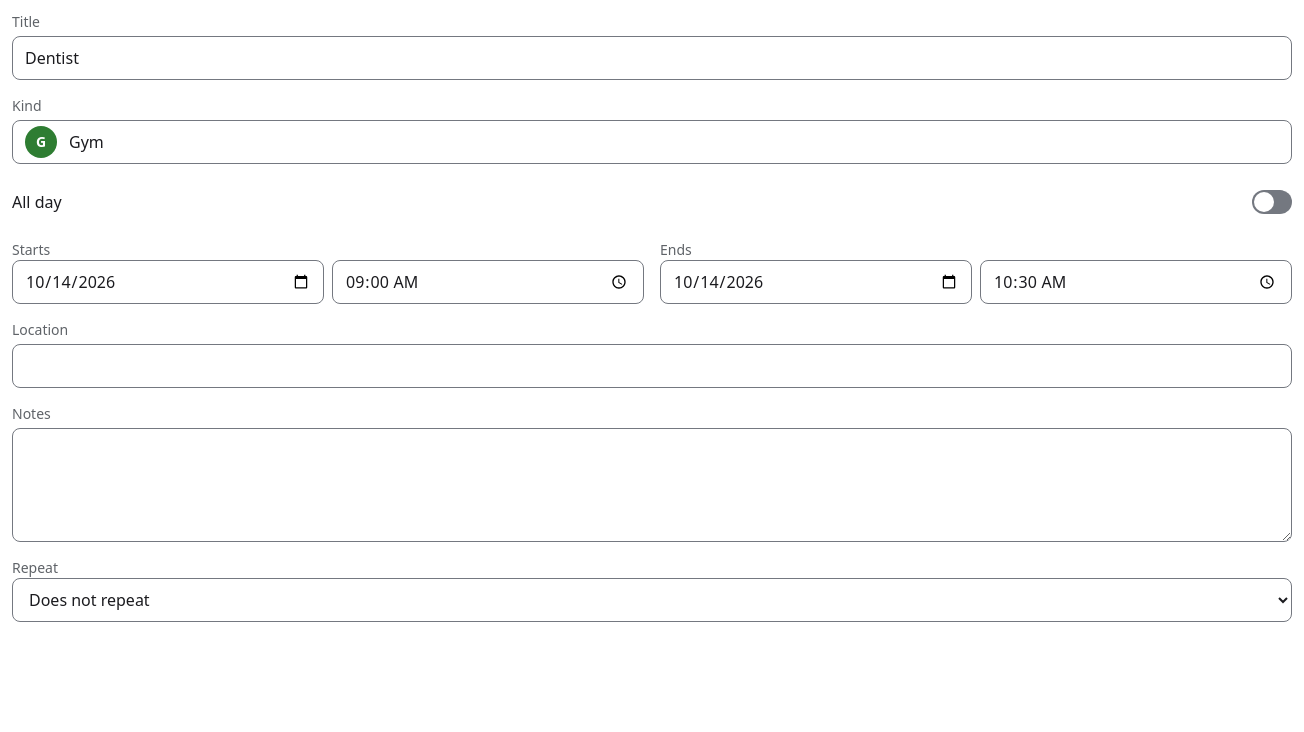
it: the start drags the end along (AC-3, Block 4 through moveStart) › Start time 09:00 -> 14:00 on a 09:00 - 10:30 event: End time shows 15:30
Replace the text in the time field named "Start time" with "14:00" at (488, 282), box 332,260 -> 644,304
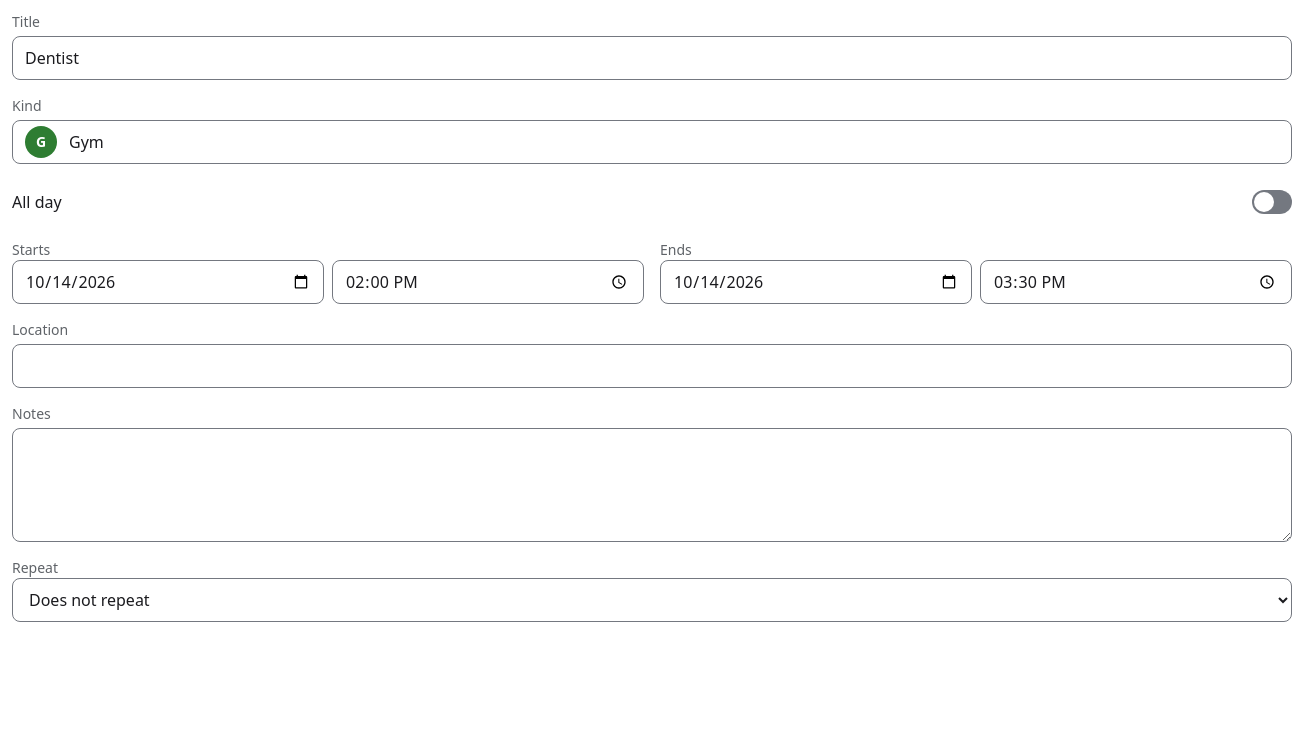
Check: the time field named "End time" holds "15:30", box 980,260 -> 1292,304
